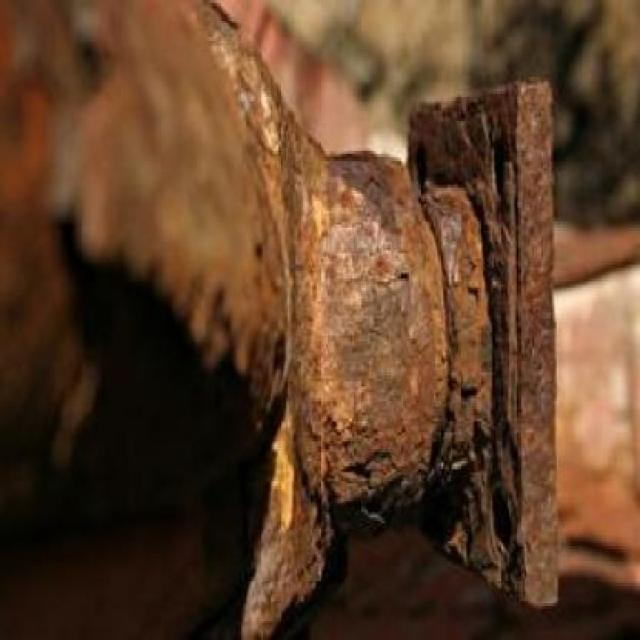corrosion: (1, 79, 558, 633)
